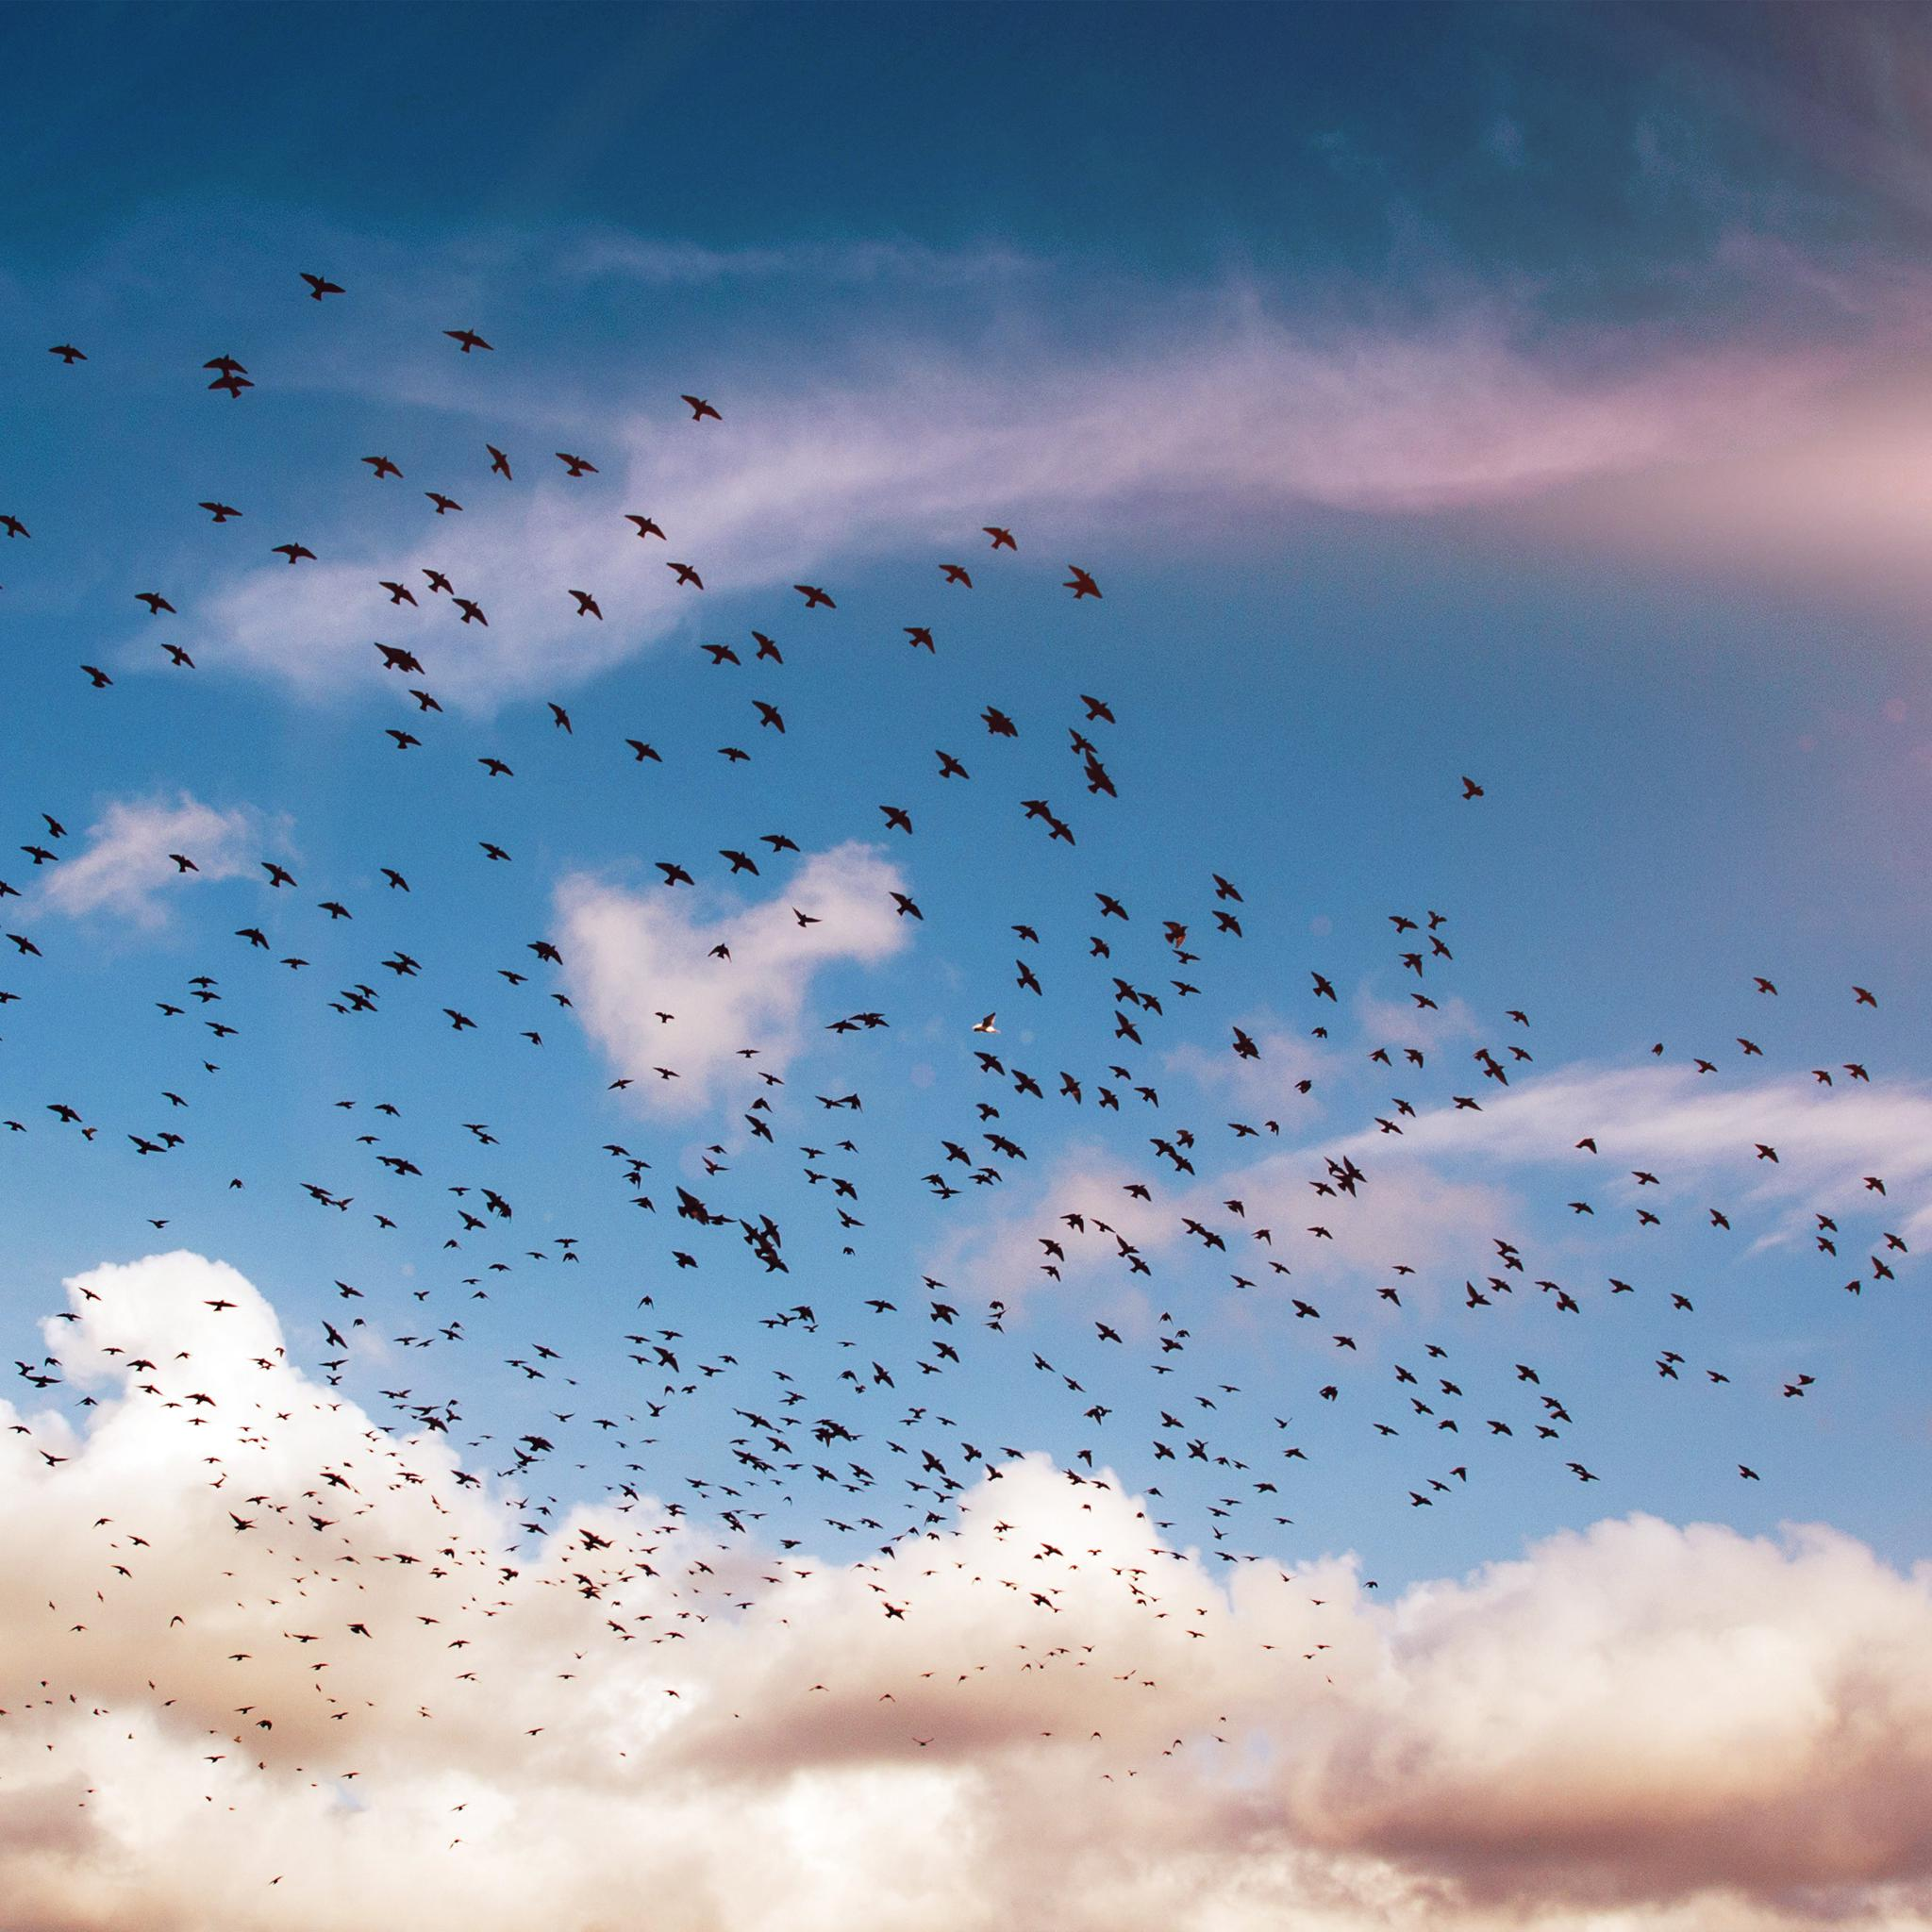bird: (663, 372, 750, 441), (1424, 757, 1518, 812), (426, 310, 520, 364), (287, 251, 354, 318), (1051, 550, 1122, 609)
